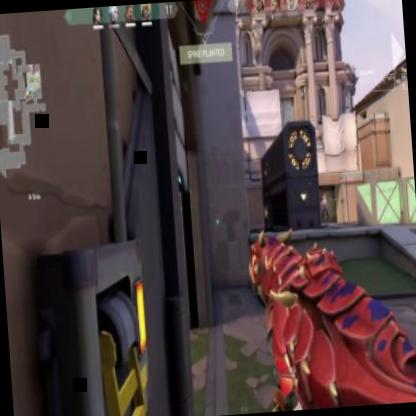enemy: (320, 194, 330, 226)
enemy_head: (322, 194, 326, 203)
